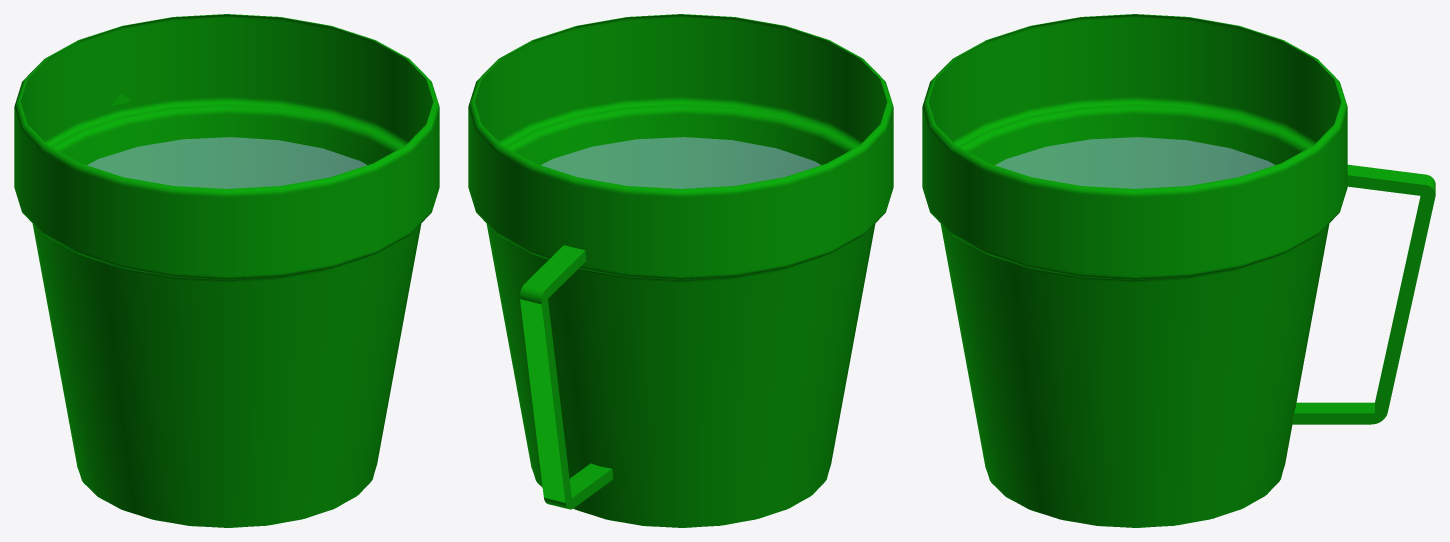
3 renders of one model, left to right at view 1: azimuth 30°, elevation 25°; view 2: azimuth 150°, elevation 25°; view 3: azimuth 270°, elevation 25°, orthographic.
Visible parts, largest first — view 1: mesh1_mesh1-geometry, mesh4_mesh4-geometry_1; view 2: mesh1_mesh1-geometry, mesh4_mesh4-geometry_1, mesh3_mesh3-geometry; view 3: mesh1_mesh1-geometry, mesh4_mesh4-geometry_1, mesh3_mesh3-geometry.
Part boxes in pixels (box(x1,y1,x2,y2)): mesh1_mesh1-geometry: box(14, 14, 439, 527); mesh4_mesh4-geometry_1: box(87, 137, 366, 188); mesh1_mesh1-geometry: box(468, 14, 893, 527); mesh4_mesh4-geometry_1: box(541, 137, 820, 188); mesh3_mesh3-geometry: box(520, 245, 613, 509); mesh1_mesh1-geometry: box(922, 14, 1347, 527); mesh4_mesh4-geometry_1: box(995, 137, 1274, 188); mesh3_mesh3-geometry: box(1292, 164, 1435, 424).
Bounding box in the file's own units: 0.547 × 0.5148 × 0.6601.
